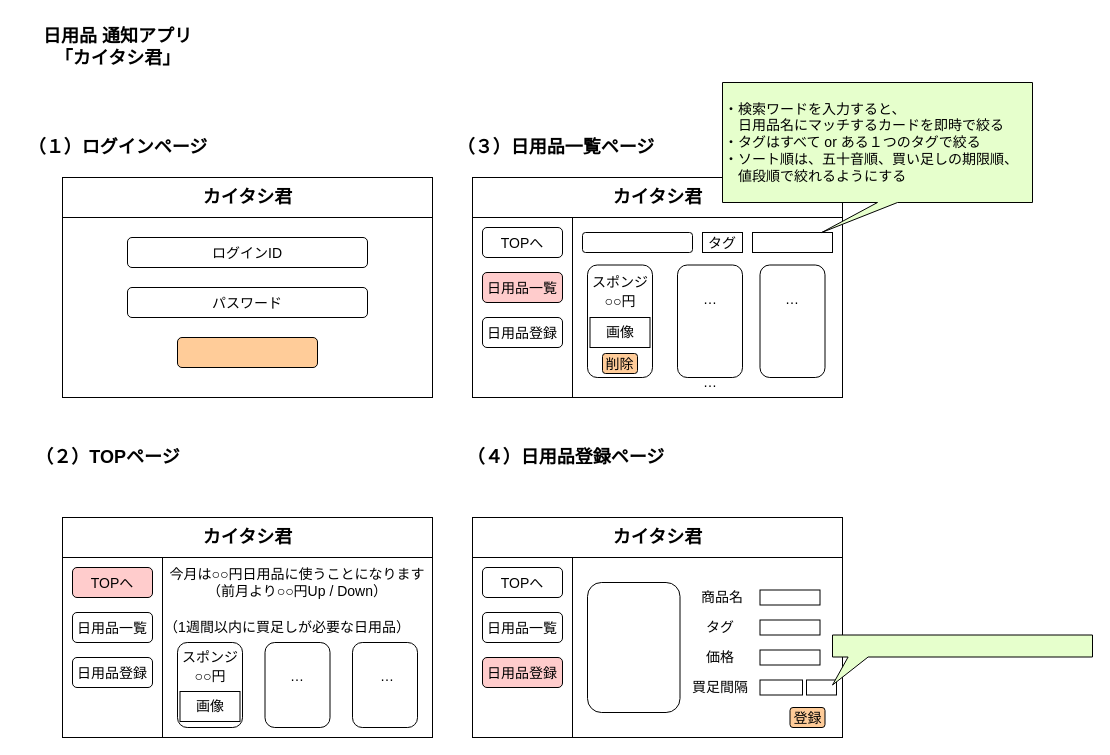
The diagram is 1110 pixels wide and 755 high, and some of its shapes have lost their labels. The shapes that lost their labels are listed below. From the top down, each one's centre as x and y in pixels, then its label:
point (637, 242): 検索ワード
point (792, 242): ソート順
point (247, 352): ログイン
point (633, 647): 商品画像を アップロード
point (962, 659): ・単位は日、月、年で選べるようにする
point (821, 687): 単位
